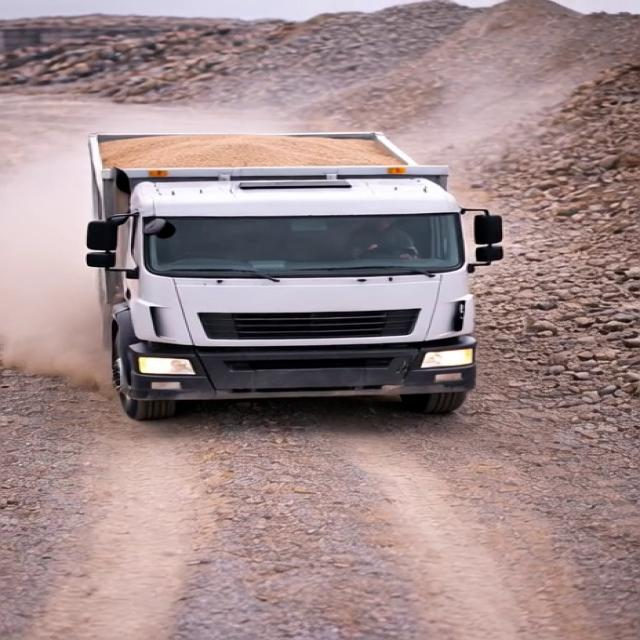trailer: (72, 132, 448, 169)
truck: (80, 109, 508, 422)
